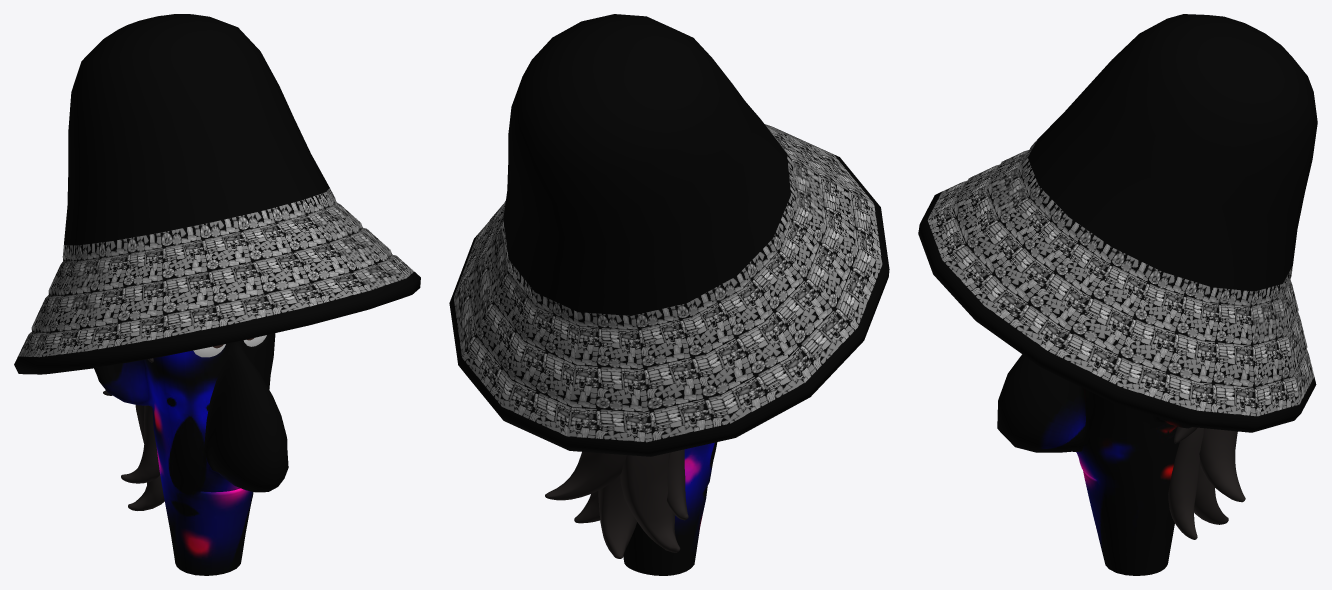
The model's file is ship_jay.glb.
3 renders of one model, left to right at view 1: azimuth 30°, elevation 25°; view 2: azimuth 150°, elevation 25°; view 3: azimuth 270°, elevation 25°, orthographic. The views are drawn at different scales.
Parts seen in each view (by area): view 1: GEO-jay_hat, GEO-jay_head, GEO-jay_hair; view 2: GEO-jay_hat, GEO-jay_hair, GEO-jay_head; view 3: GEO-jay_hat, GEO-jay_head, GEO-jay_hair.
Part boxes in pixels (<box>): GEO-jay_hat: <box>14,14,420,374</box>; GEO-jay_head: <box>94,333,288,575</box>; GEO-jay_hair: <box>103,358,164,510</box>; GEO-jay_hat: <box>449,14,889,456</box>; GEO-jay_hair: <box>545,449,688,558</box>; GEO-jay_head: <box>623,442,717,575</box>; GEO-jay_hat: <box>918,14,1317,432</box>; GEO-jay_head: <box>997,354,1191,575</box>; GEO-jay_hair: <box>1168,426,1245,539</box>.
Size of the model in its own units: 0.3668 by 0.5014 by 0.3389.
11 materials, 2 textured.
